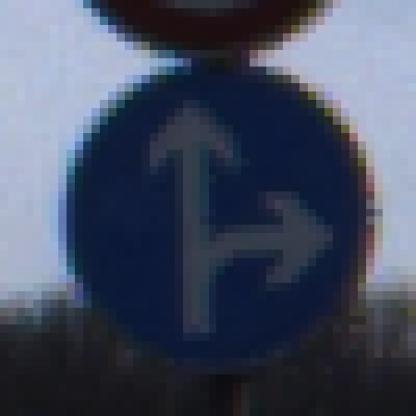Straight or Right: (51, 51, 375, 375)
